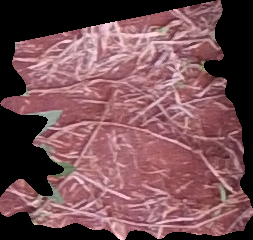soil: (1, 1, 252, 238)
